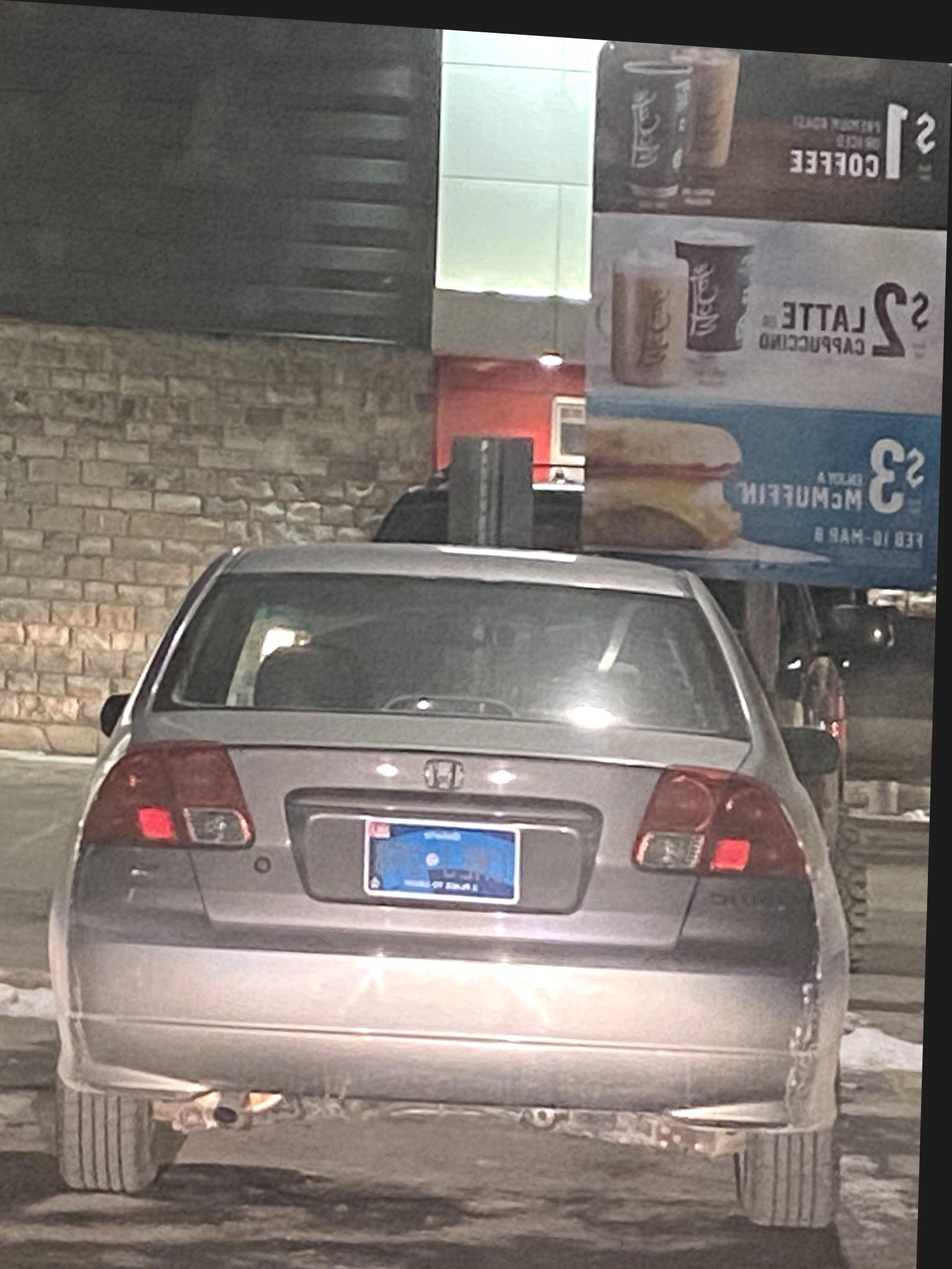License_Plate: (333, 800, 532, 923)
